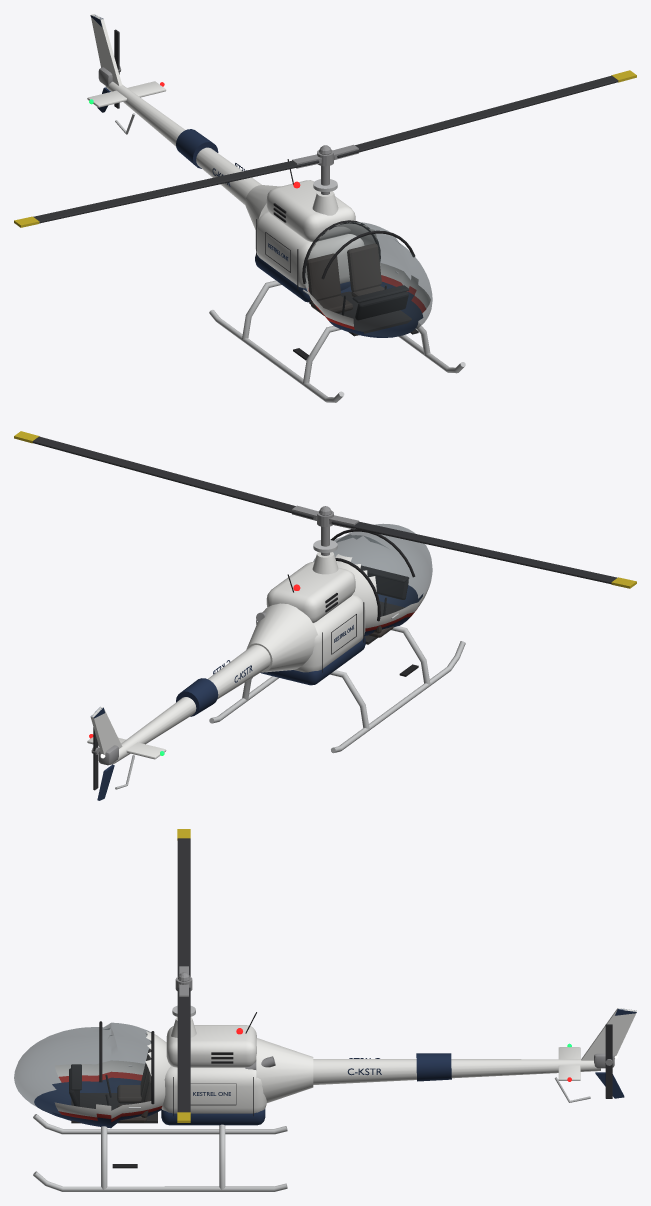
Rendered from kestrel-one.glb.
3 views of the same model, one above another, from view 1: azimuth 30°, elevation 25°; view 2: azimuth 150°, elevation 25°; view 3: azimuth 270°, elevation 25° (orthographic). The views are drawn at different scales.
Parts seen in each view (by area): view 1: body, main_rotor, interior, skids, instrument_panel; view 2: body, main_rotor, skids, instrument_panel; view 3: body, main_rotor, skids, interior, tail_rotor.
Boxes of the visible parts, left/top/right/bottom form: body: left=87, top=14, right=432, bottom=337; main_rotor: left=14, top=70, right=636, bottom=227; interior: left=306, top=243, right=411, bottom=336; skids: left=209, top=280, right=465, bottom=402; instrument_panel: left=352, top=285, right=409, bottom=320; body: left=87, top=524, right=432, bottom=800; main_rotor: left=14, top=431, right=636, bottom=588; skids: left=209, top=626, right=465, bottom=753; instrument_panel: left=360, top=565, right=409, bottom=599; body: left=14, top=1005, right=636, bottom=1128; main_rotor: left=175, top=829, right=192, bottom=1122; skids: left=33, top=1114, right=287, bottom=1191; interior: left=71, top=1049, right=157, bottom=1123; tail_rotor: left=605, top=1024, right=612, bottom=1098.
Bounding box in the file's own units: 9.94 × 3.02 × 8.97.
